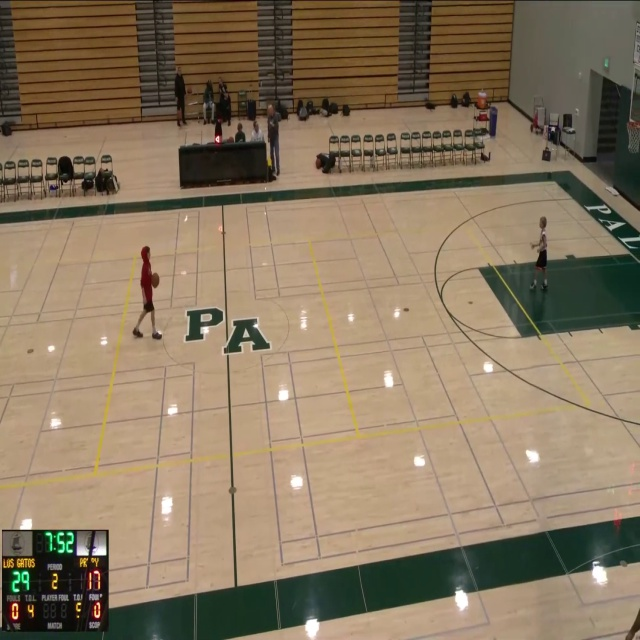Basketball: (151, 273, 159, 288)
